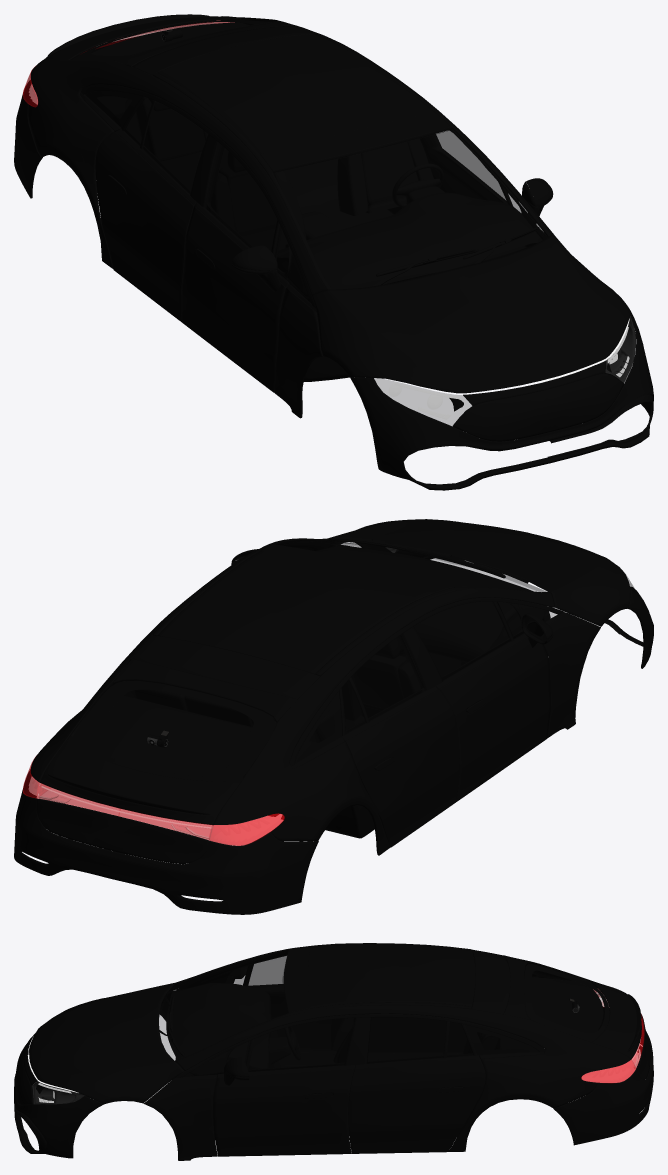
Rendered from PIONEER ONLY CAR .glb.
3 views of the same model, one above another, from view 1: azimuth 30°, elevation 25°; view 2: azimuth 150°, elevation 25°; view 3: azimuth 270°, elevation 25° (orthographic). The views are drawn at different scales.
Visible parts, largest first — view 1: Plane.002, Plane.006, BUMPER.004, BUMPER.001, Plane.004, Plane.001, headlight.002, whipper.003, grill.001, front headlight.003; view 2: Plane.002, Plane.006, Plane.004, BUMPER.004, BUMPER.001, whipper.003, in light.004; view 3: Plane.002, Plane.006, Plane.004, BUMPER.004, BUMPER.001, Plane.001, front headlight.003, steer.002, grill.001, in light.004.
Boxes of the visible parts, <box> form: Plane.002: <box>14,14,653,490</box>; Plane.006: <box>157,34,451,172</box>; BUMPER.004: <box>276,192,542,289</box>; BUMPER.001: <box>125,97,430,283</box>; Plane.004: <box>91,19,545,381</box>; Plane.001: <box>374,316,636,426</box>; headlight.002: <box>463,361,605,405</box>; whipper.003: <box>372,227,539,286</box>; grill.001: <box>548,394,653,458</box>; front headlight.003: <box>605,315,635,382</box>; Plane.002: <box>14,519,653,914</box>; Plane.006: <box>157,544,451,674</box>; Plane.004: <box>71,541,545,838</box>; BUMPER.004: <box>316,545,550,725</box>; BUMPER.001: <box>124,638,420,742</box>; whipper.003: <box>328,536,528,583</box>; in light.004: <box>29,777,281,841</box>; Plane.002: <box>14,943,653,1160</box>; Plane.006: <box>283,943,475,1012</box>; Plane.004: <box>178,951,603,1139</box>; BUMPER.004: <box>166,983,288,1076</box>; BUMPER.001: <box>283,1018,499,1067</box>; Plane.001: <box>31,1081,83,1103</box>; front headlight.003: <box>32,1081,84,1104</box>; steer.002: <box>269,1036,291,1064</box>; grill.001: <box>14,1096,46,1152</box>; in light.004: <box>582,997,630,1080</box>.
Size of the model in its own units: 1.53 by 0.9306 by 3.69.
